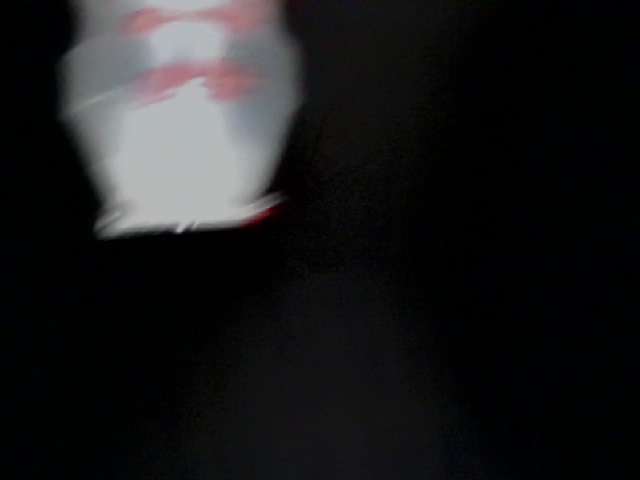CYLJ: (547, 31, 640, 144)
